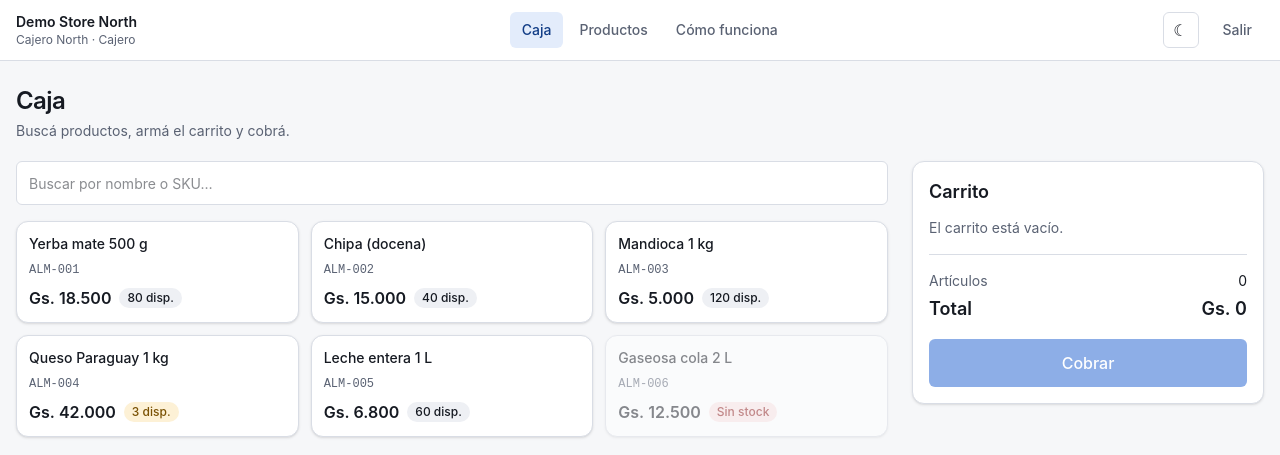
Test: POS › searches the catalogue
expect the text "Yerba mate 500 g" is shown: met, box [29, 234, 148, 254]
Type "queso" into the search field named "Buscar productos".
click(452, 183); type("queso")  # box [16, 161, 888, 205]
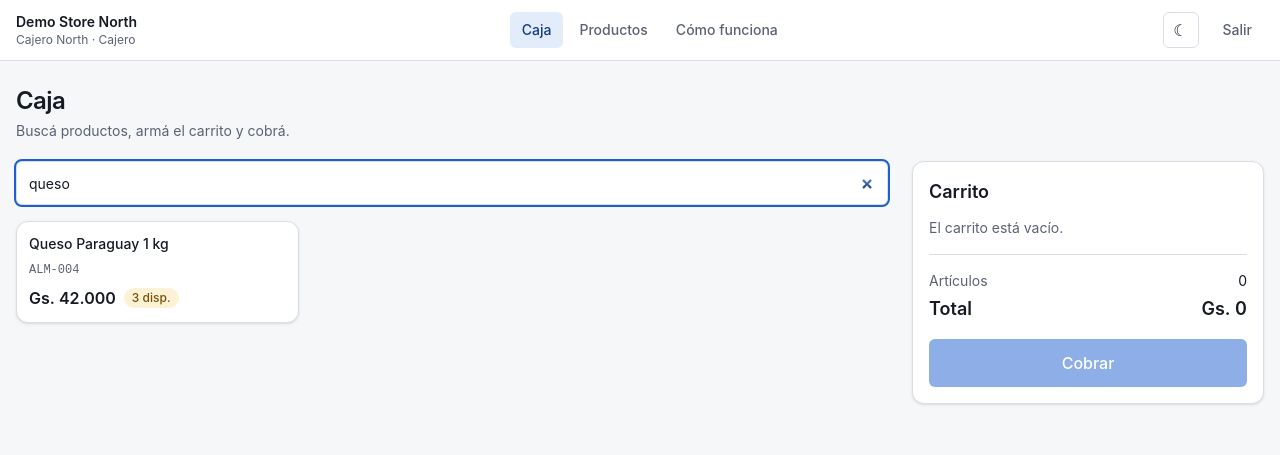
expect the text "Queso Paraguay 1 kg" is shown: met, box [29, 234, 169, 254]
expect the button "Yerba mate 500 g" is gone: met
Replace the text in the search field named "Buscar productos" with "zzz" at [452, 183], box [16, 161, 888, 205]
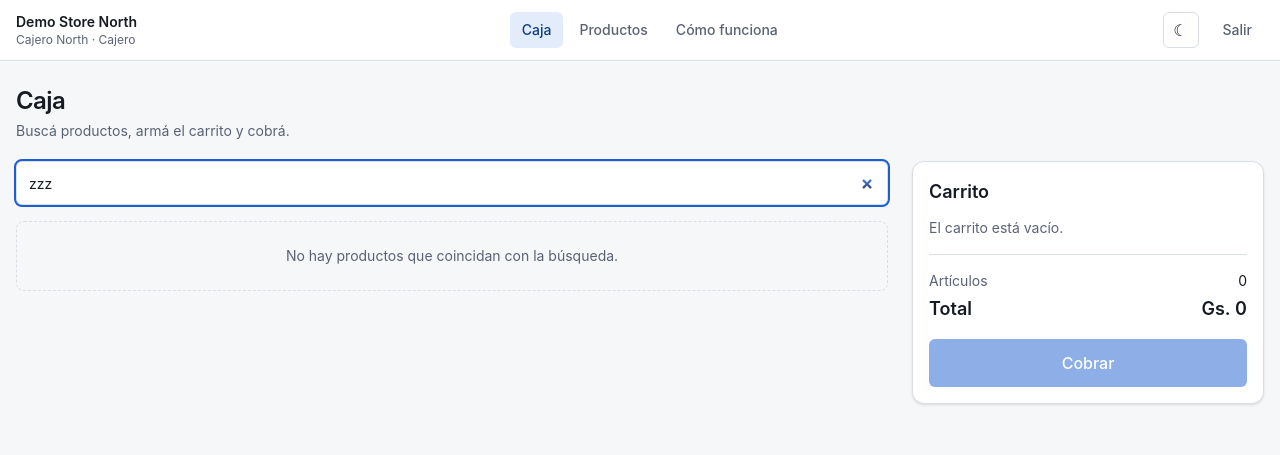
expect the text "No hay productos que coincidan con la búsqueda." is shown: met, box [16, 221, 888, 291]
